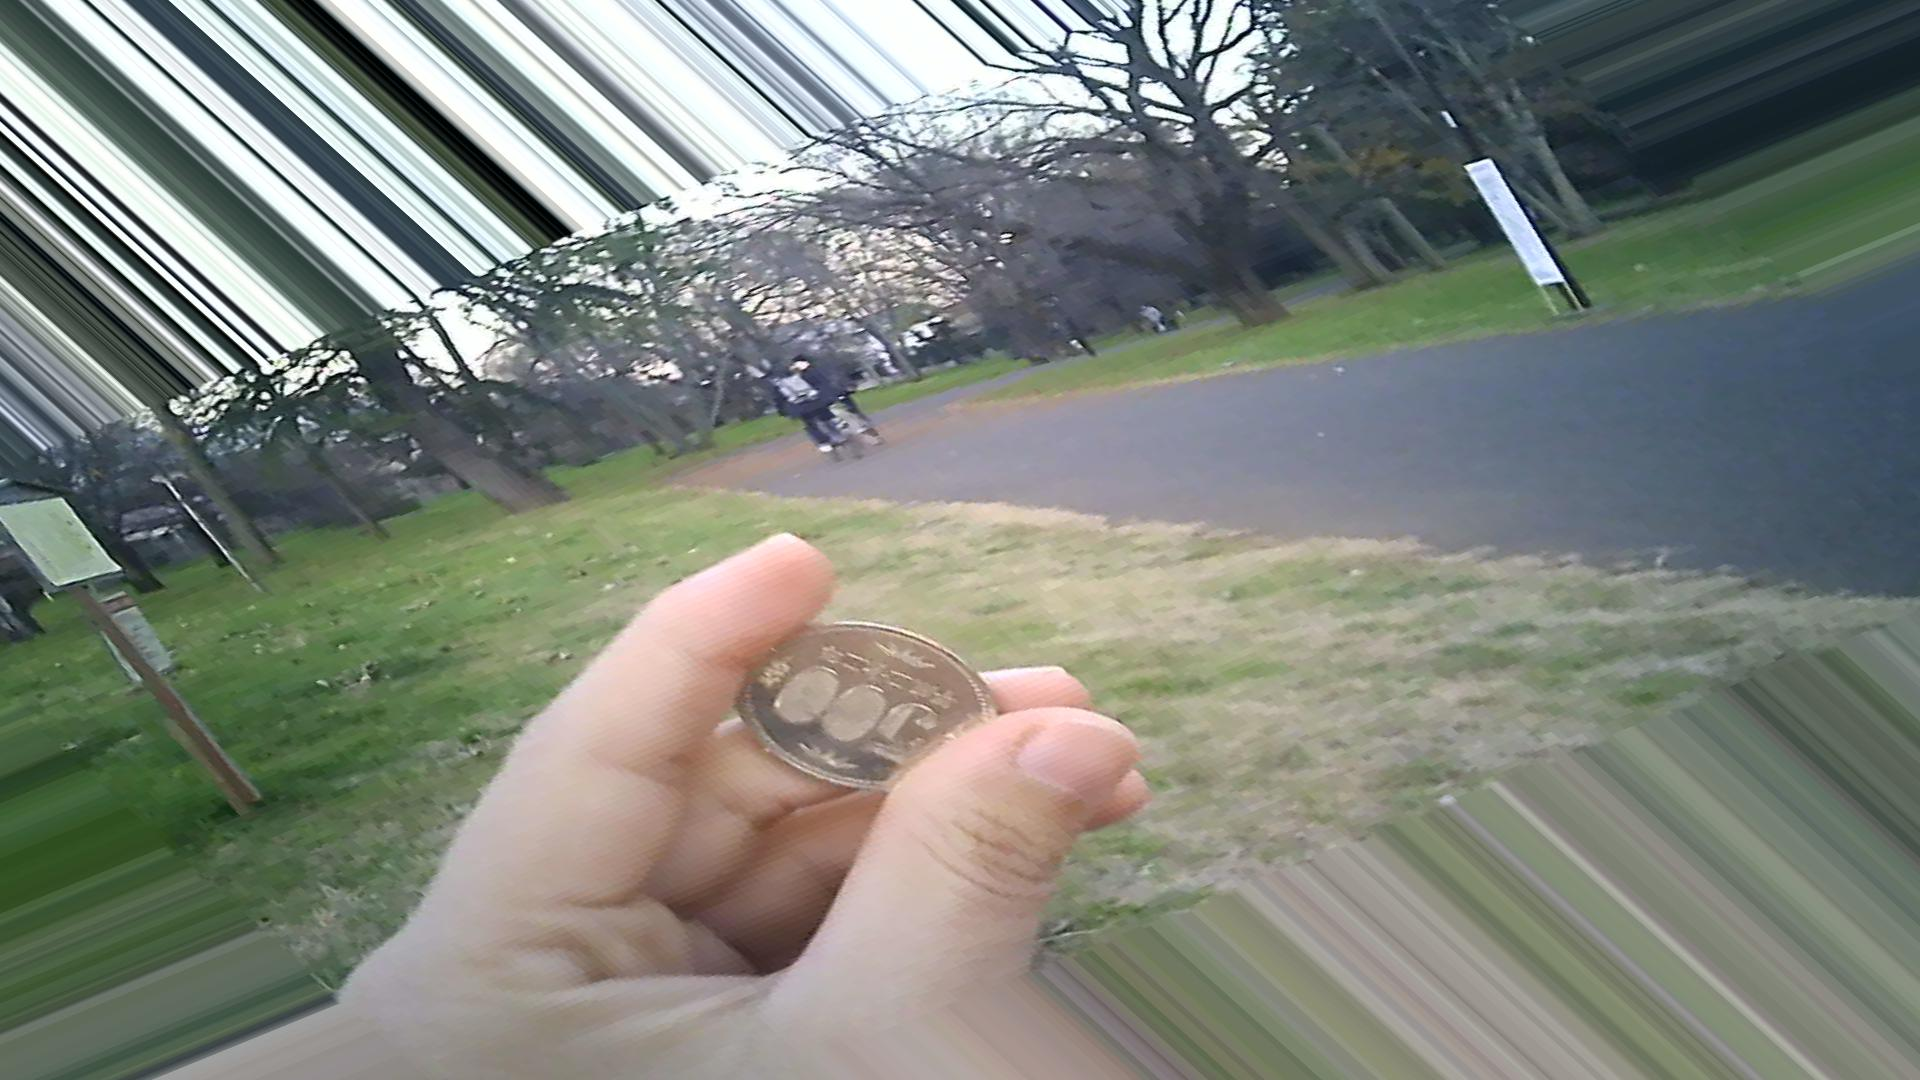500 Yen: (702, 603, 997, 794)
